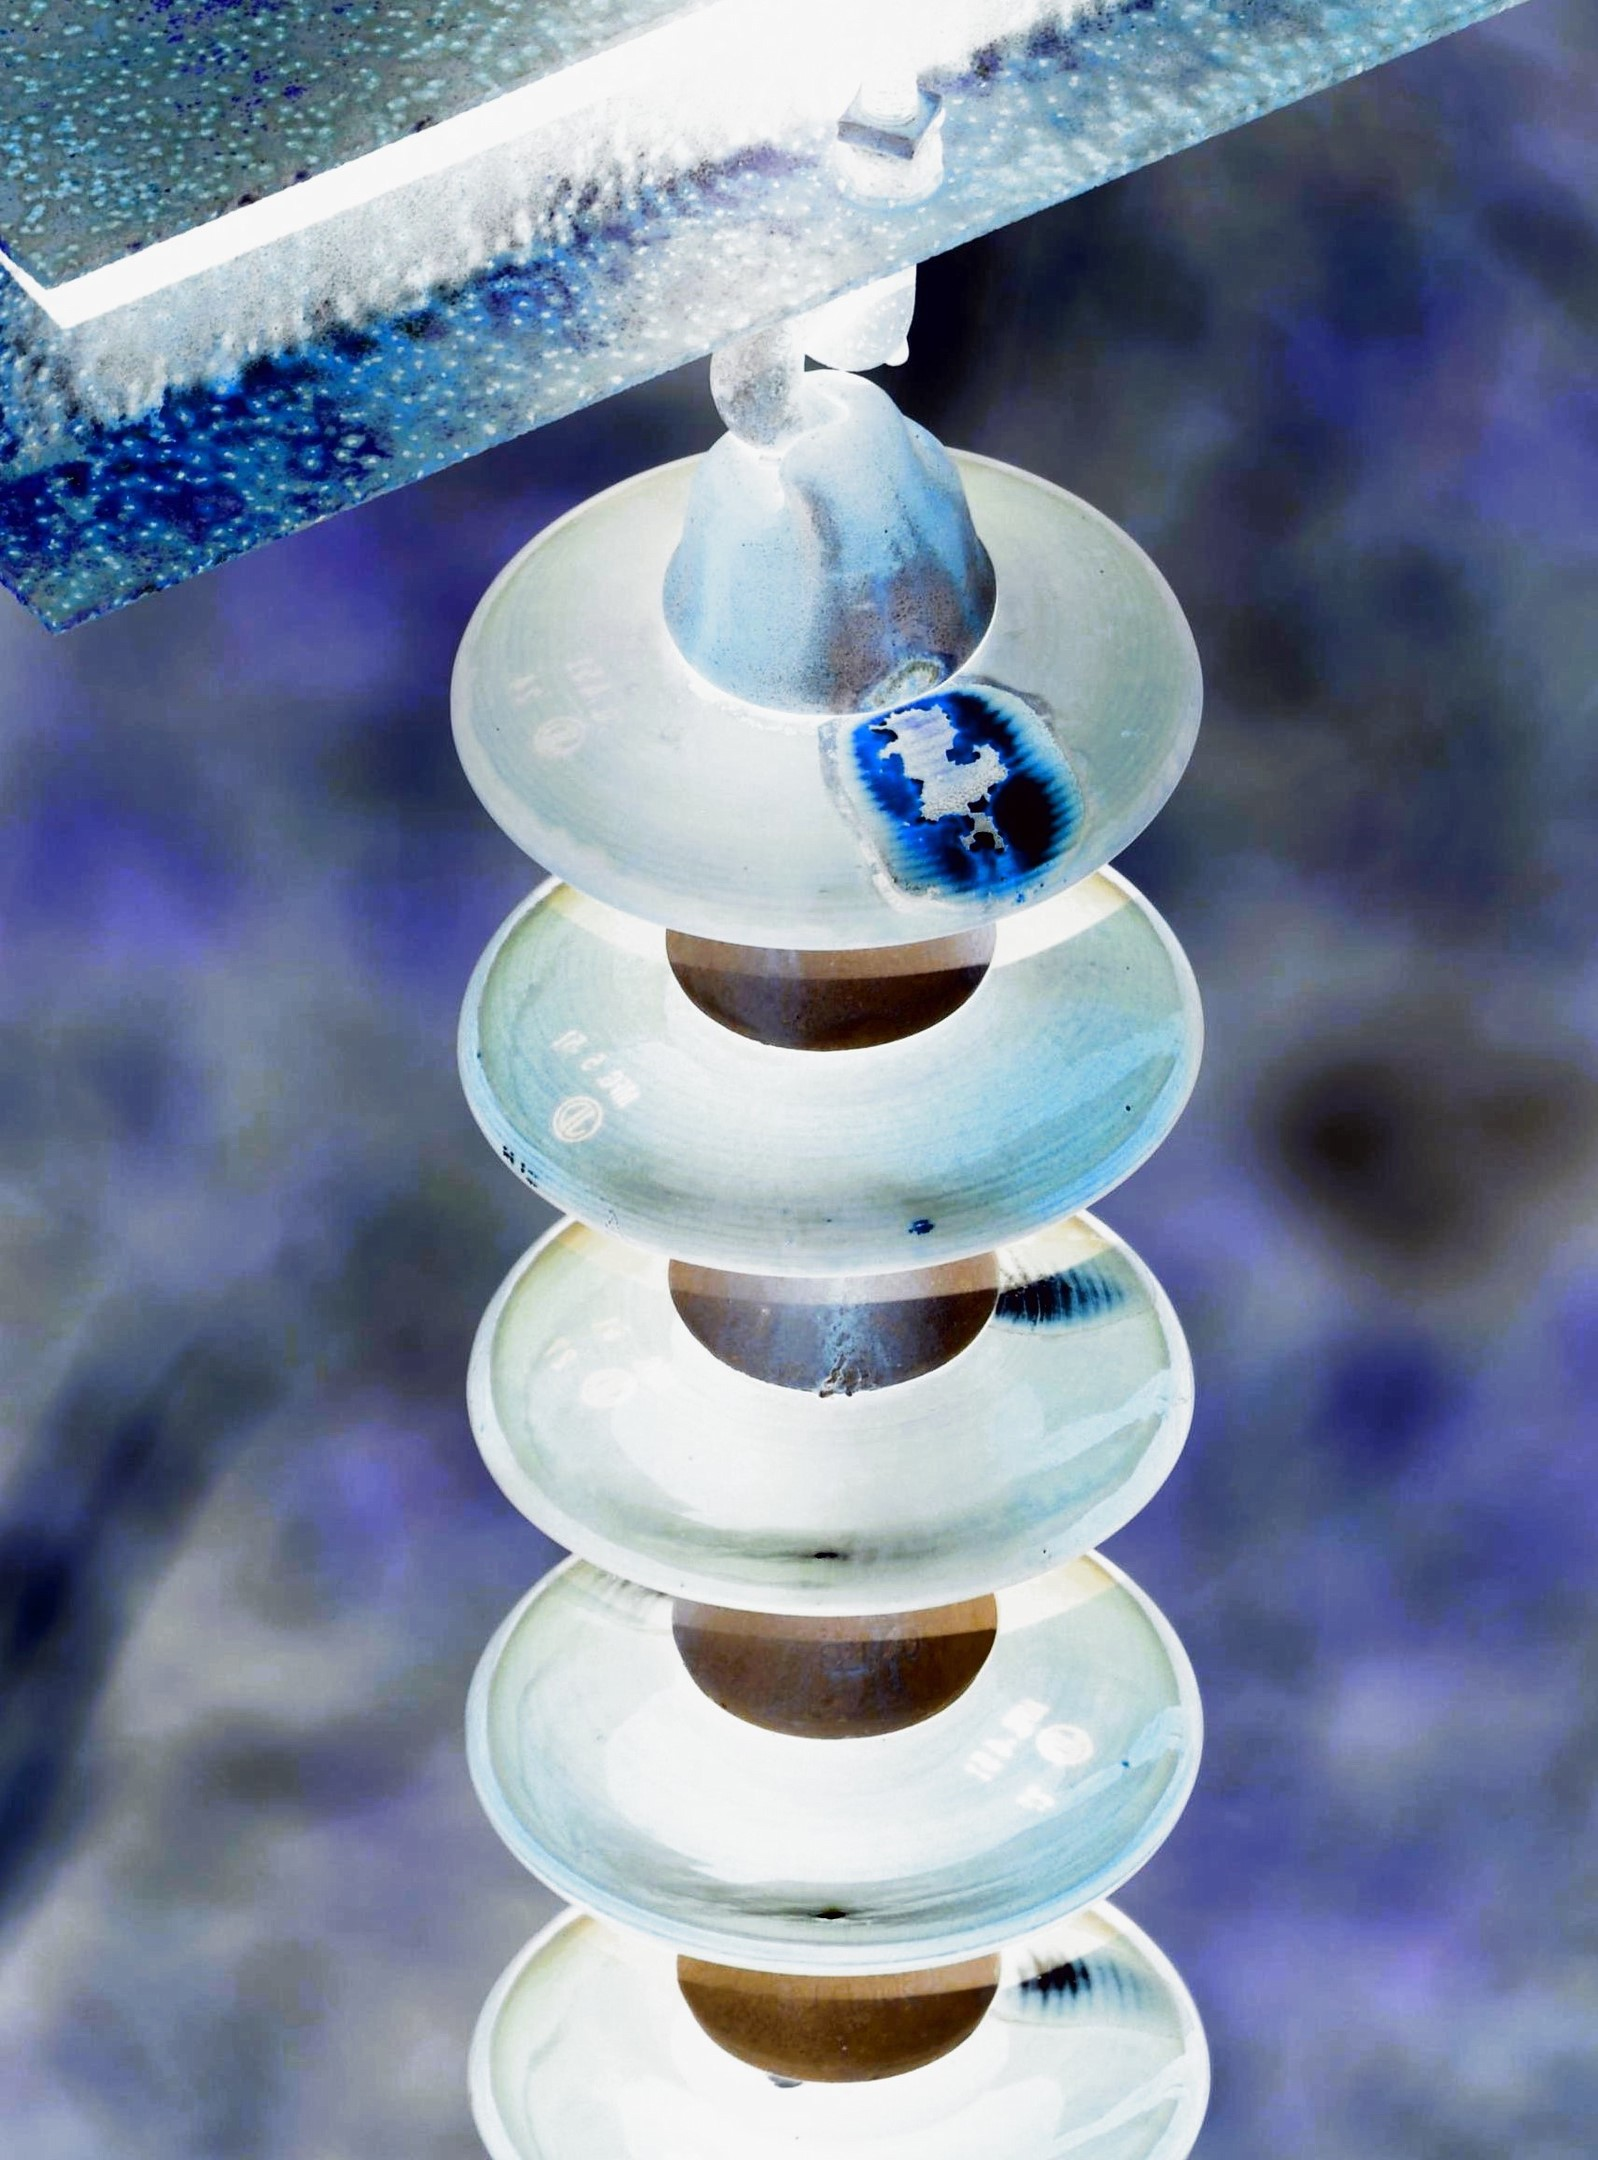Insulator flashover: (433, 425, 1224, 947)
